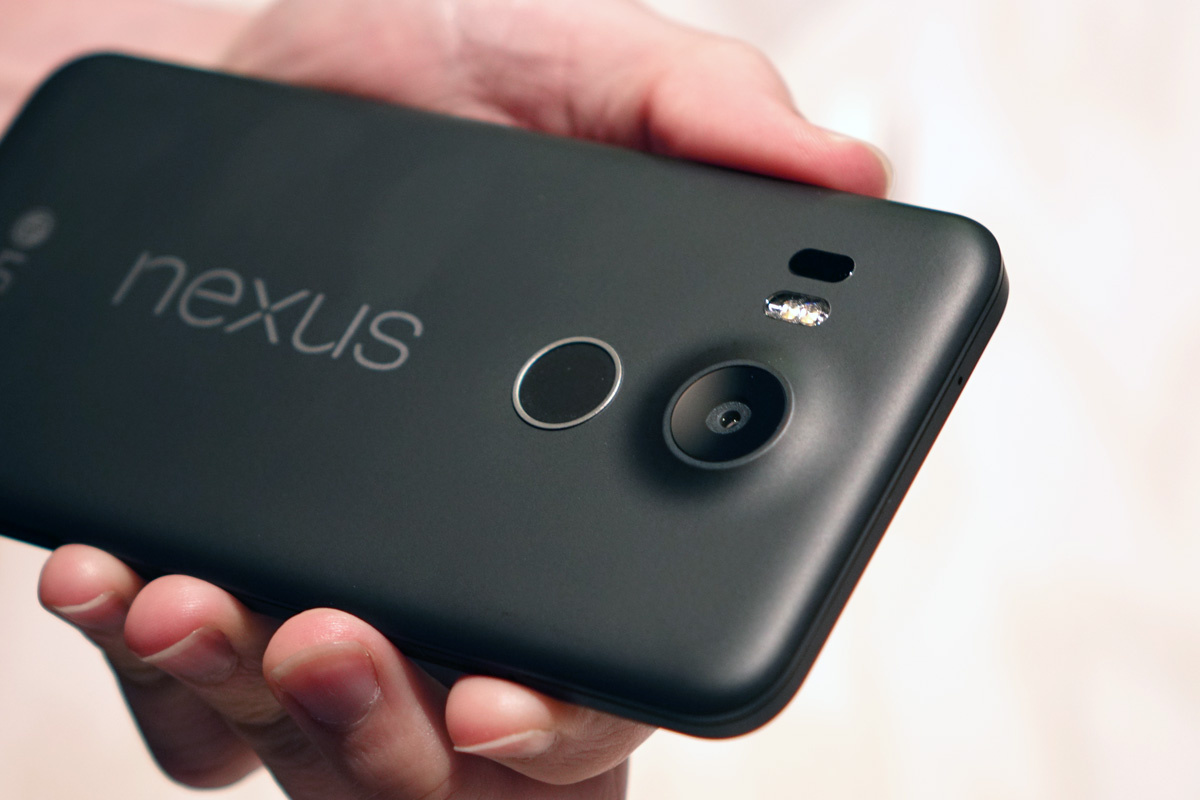smartphone: (1, 49, 1010, 738)
